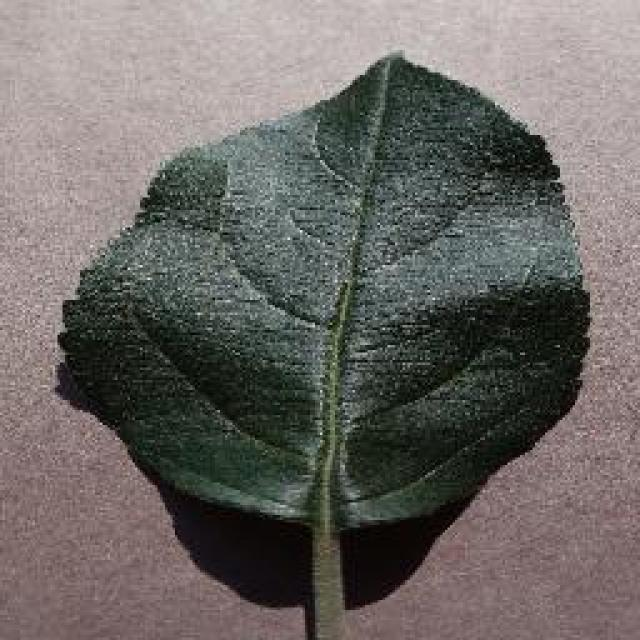Apple___healthy: (50, 35, 605, 640)
